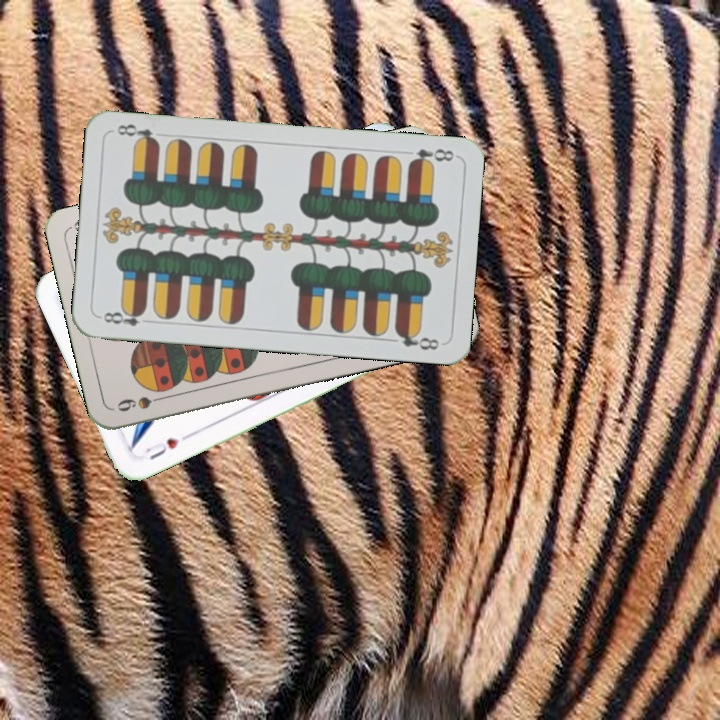E8: (96, 305, 155, 329), (404, 144, 456, 169)
HU: (141, 434, 181, 463)
S9: (113, 391, 171, 414)
